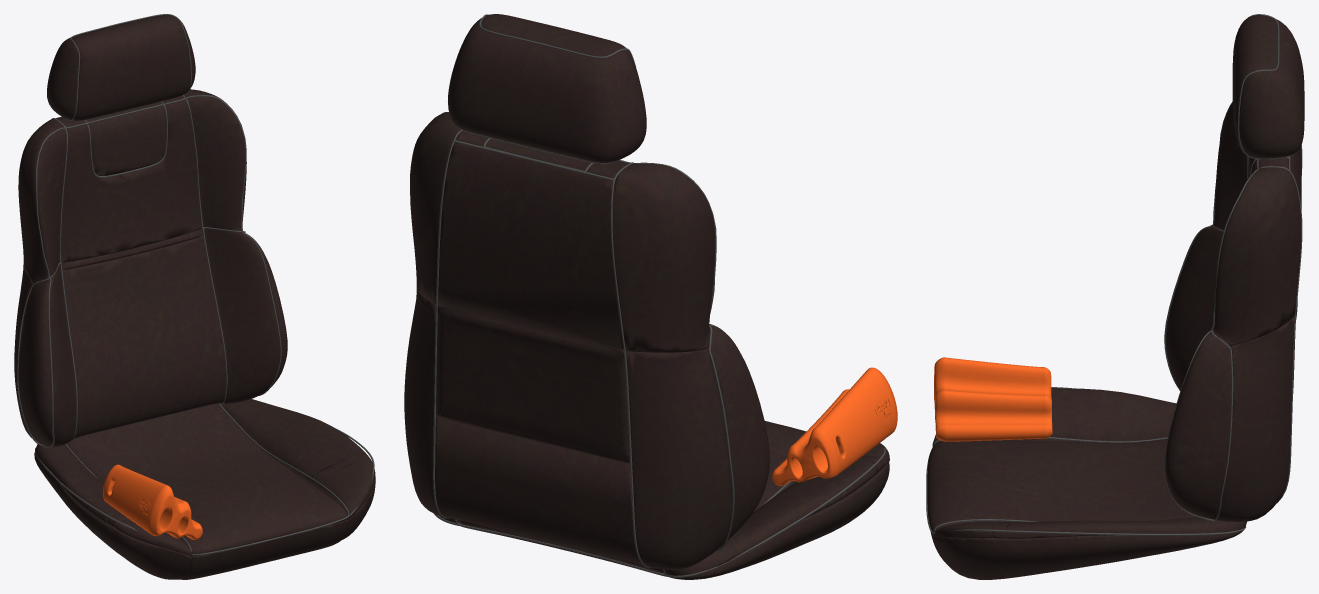
The model's file is PF_OnSeat_orange.optimized.glb.
3 views of the same model, side by side, from view 1: azimuth 30°, elevation 25°; view 2: azimuth 150°, elevation 25°; view 3: azimuth 270°, elevation 25° (orthographic). The views are drawn at different scales.
Visible parts, largest first — view 1: low poly top, Generic Car Seat PL, seat bottom basemesh.007, WEB; view 2: low poly top, Generic Car Seat PL, WEB, seat bottom basemesh.007; view 3: low poly top, Generic Car Seat PL, WEB, seat bottom basemesh.007.
Part boxes in pixels (x1,y1,x2,y2): low poly top: (14,15,287,446); Generic Car Seat PL: (34,399,375,579); seat bottom basemesh.007: (17,14,374,555); WEB: (103,464,202,539); low poly top: (404,14,769,570); Generic Car Seat PL: (434,421,889,579); WEB: (772,367,897,485); seat bottom basemesh.007: (433,14,885,577); low poly top: (1165,15,1304,521); Generic Car Seat PL: (927,388,1247,579); WEB: (934,357,1052,441); seat bottom basemesh.007: (926,14,1302,535).
Size of the model in its own units: 169 by 265 by 184.
Materials: 4 (2 with a texture image).
